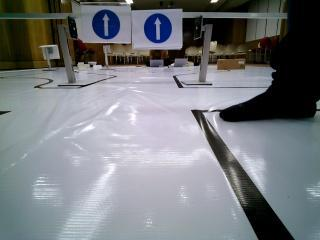straight: (82, 1, 130, 43), (134, 9, 183, 47)
